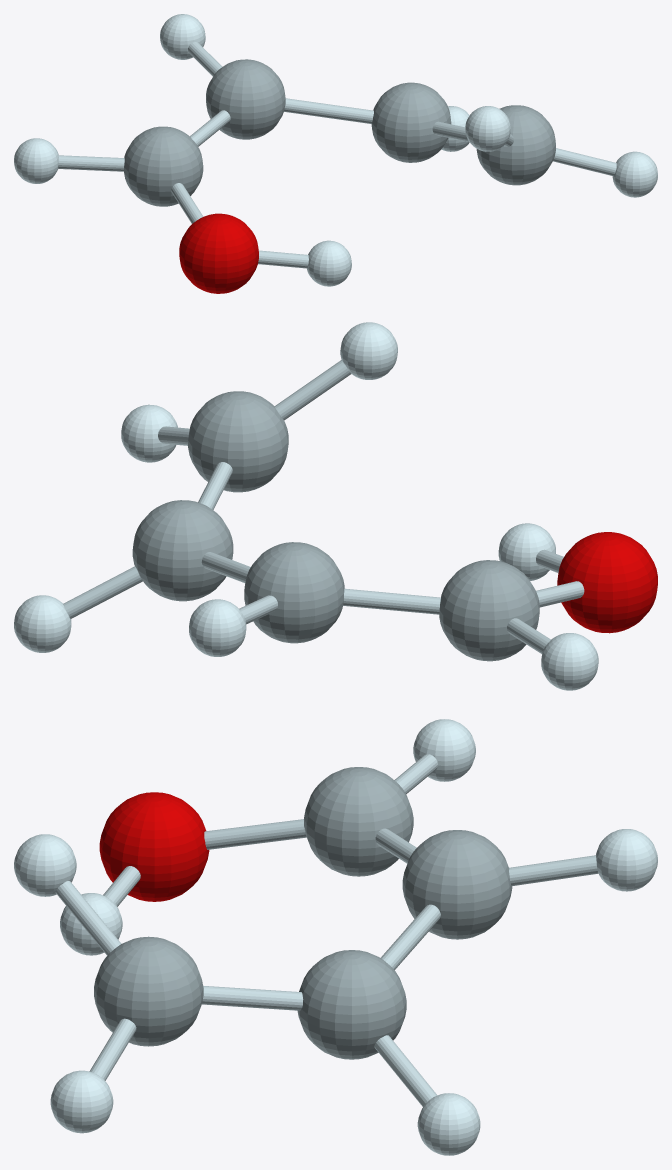
The model's file is irc_075.glb.
The picture shows the model from 3 angles, top to bottom: view 1: azimuth 30°, elevation 25°; view 2: azimuth 150°, elevation 25°; view 3: azimuth 270°, elevation 25°; orthographic projection. The views are drawn at different scales.
Visible parts, largest first — view 1: Renderer Node; view 2: Renderer Node; view 3: Renderer Node.
Boxes of the visible parts, bbox=[...] form: Renderer Node: bbox=[14, 14, 657, 293]; Renderer Node: bbox=[14, 322, 657, 690]; Renderer Node: bbox=[14, 719, 657, 1155].
Bounding box in the file's own units: 5.08 × 1.7 × 4.1.
